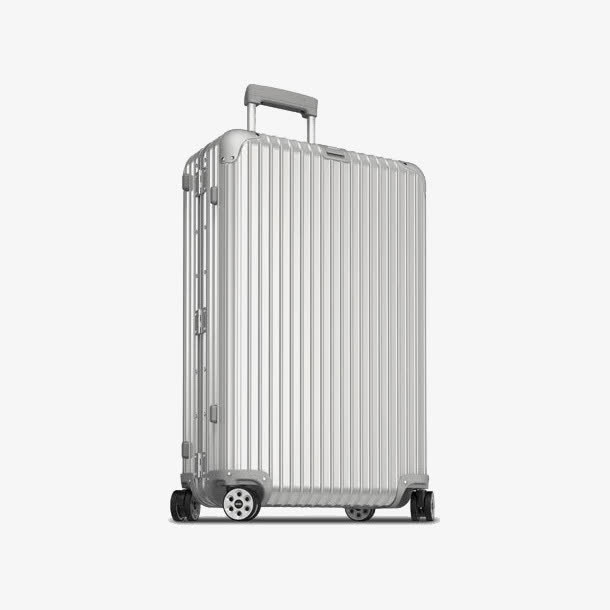box: (183, 128, 427, 508)
wheel: (221, 485, 260, 521), (170, 488, 200, 523), (409, 490, 436, 522)
